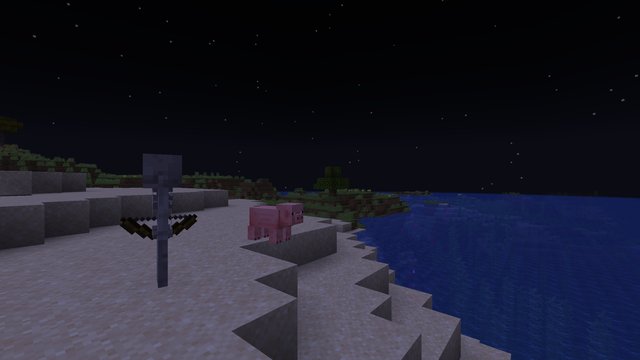cochons: (247, 204, 294, 245)
squelettes: (133, 153, 189, 294)
